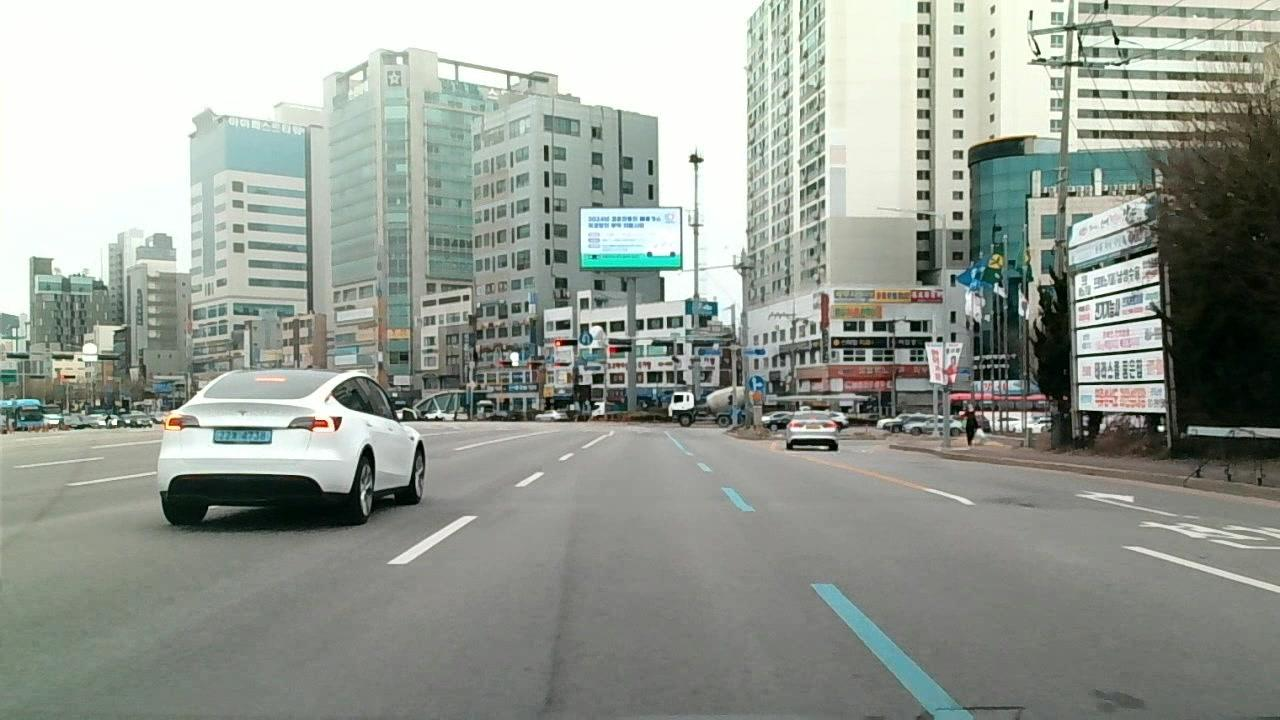banner: (1064, 196, 1167, 249), (1074, 380, 1164, 414), (1074, 352, 1164, 383), (1072, 320, 1160, 351), (1071, 288, 1159, 319), (1067, 258, 1157, 288)
